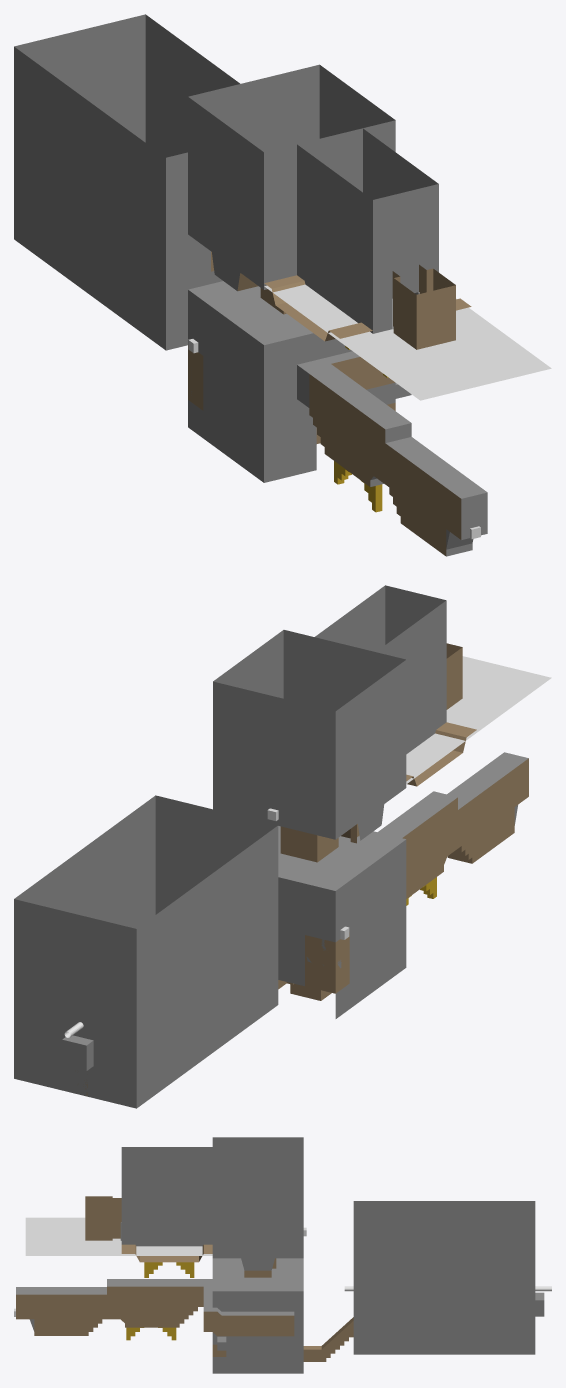
File: F_ProxyWaterTemple.fbx
3 views of the same model, one above another, from view 1: azimuth 30°, elevation 25°; view 2: azimuth 150°, elevation 25°; view 3: azimuth 270°, elevation 25° (orthographic). The views are drawn at different scales.
Parts seen in each view (by area): view 1: Plane.025; view 2: Plane.025; view 3: Plane.025.
Boxes of the visible parts, x1,y1,x2,y2 form: Plane.025: (14, 14, 551, 556); Plane.025: (14, 585, 551, 1108); Plane.025: (14, 1137, 551, 1373).
Size of the model in its own units: 2370 by 5000 by 11837.
